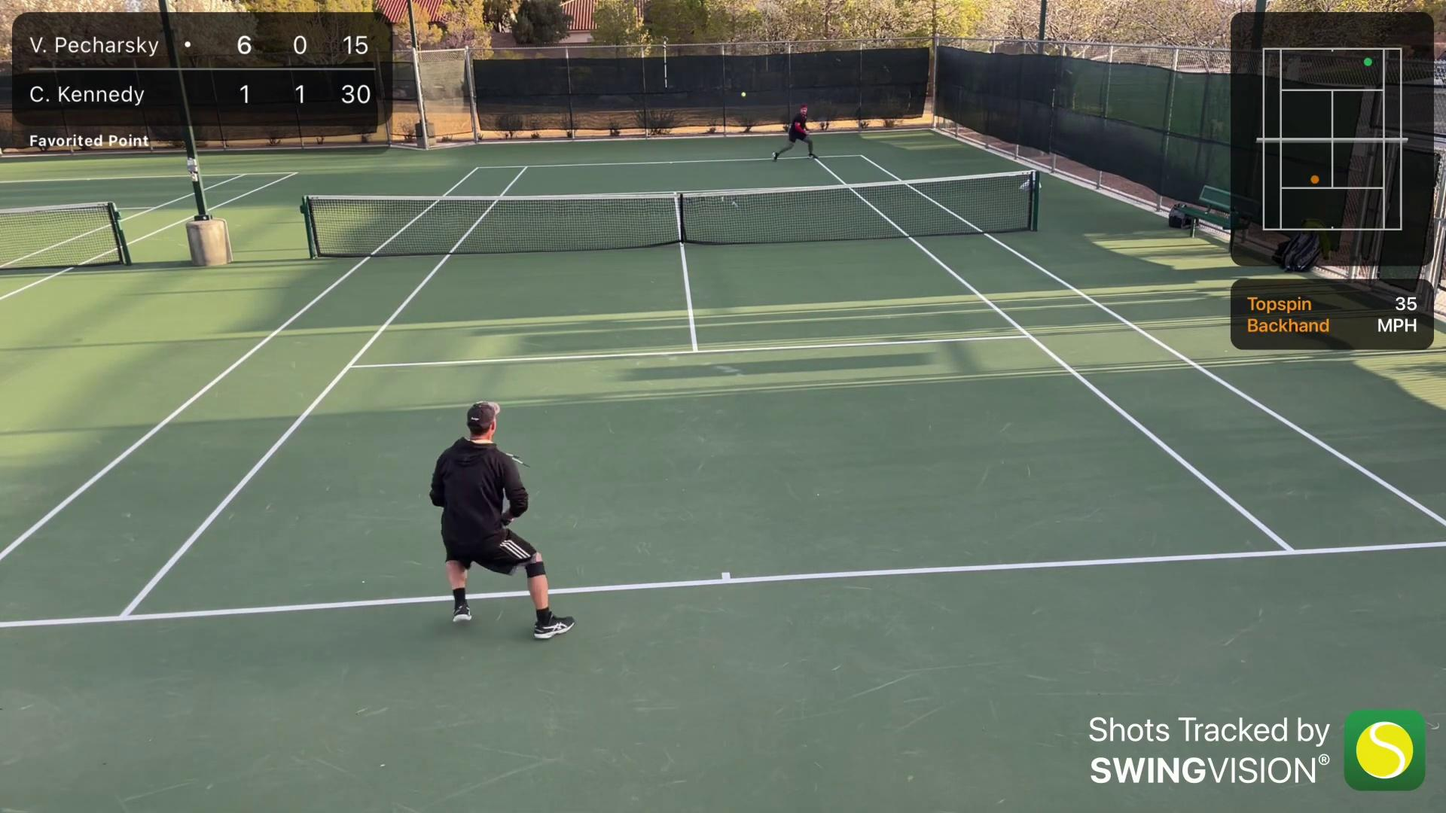ball: (740, 91, 747, 97)
